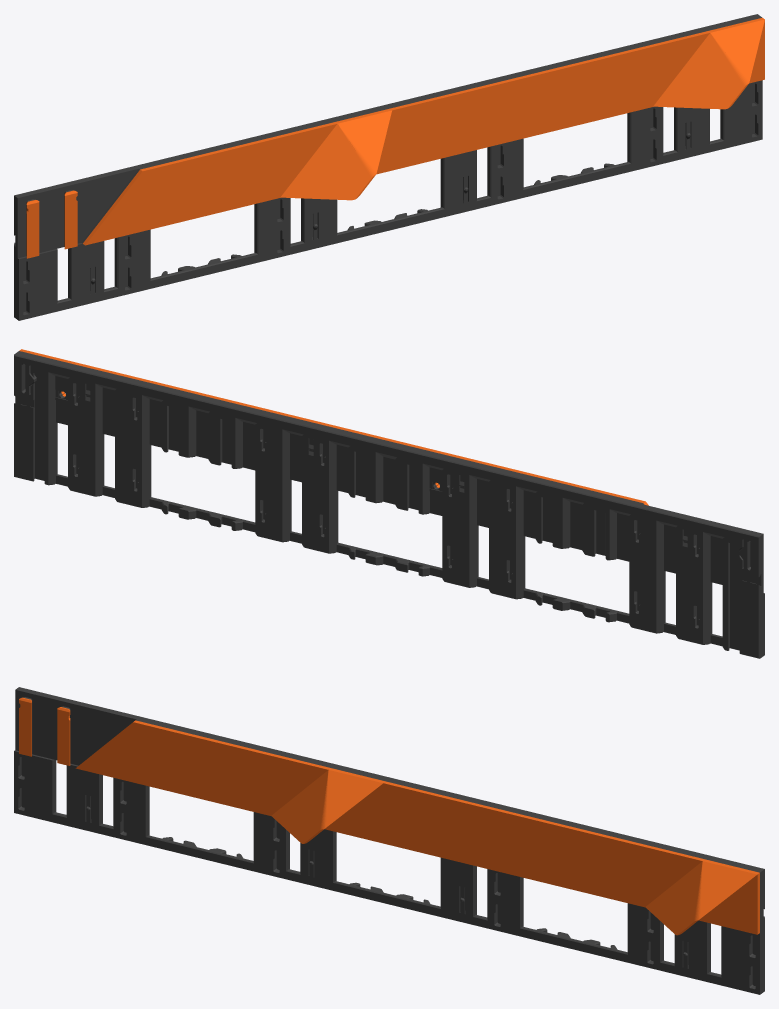
The model's file is Faceplate_EdgeLabel_4W-1H.lib.glb.
The picture shows the model from 3 angles, top to bottom: view 1: azimuth 30°, elevation 25°; view 2: azimuth 150°, elevation 25°; view 3: azimuth 330°, elevation 25°; orthographic projection.
Parts seen in each view (by area): view 1: Faceplate_EdgeLabel_4W-1H; view 2: Faceplate_EdgeLabel_4W-1H; view 3: Faceplate_EdgeLabel_4W-1H.
Boxes of the visible parts, left/top/right/bottom form: Faceplate_EdgeLabel_4W-1H: left=14, top=14, right=764, bottom=320; Faceplate_EdgeLabel_4W-1H: left=14, top=349, right=764, bottom=658; Faceplate_EdgeLabel_4W-1H: left=14, top=687, right=764, bottom=994.
Size of the model in its own units: 351 by 54.97 by 24.08.
